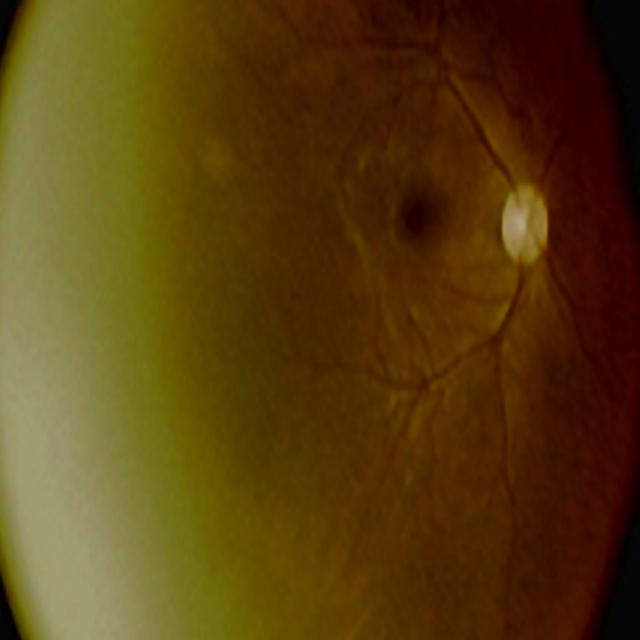optic-nerve: (476, 135, 573, 333)
